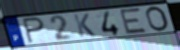2: (49, 15, 74, 42)
4: (101, 9, 121, 36)
E: (119, 7, 148, 35)
K: (72, 12, 98, 38)
O: (145, 5, 171, 33)
P: (21, 16, 46, 45)
